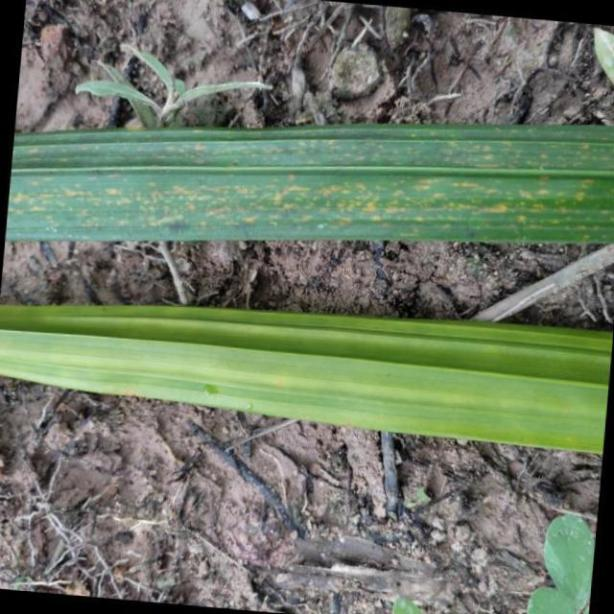nitrogen: (0, 294, 614, 456), (12, 121, 614, 243)
